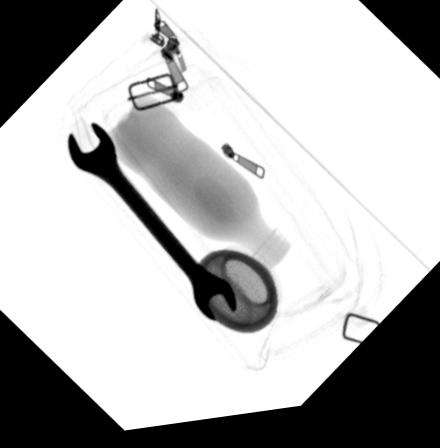Wrench: (64, 122, 239, 329)
